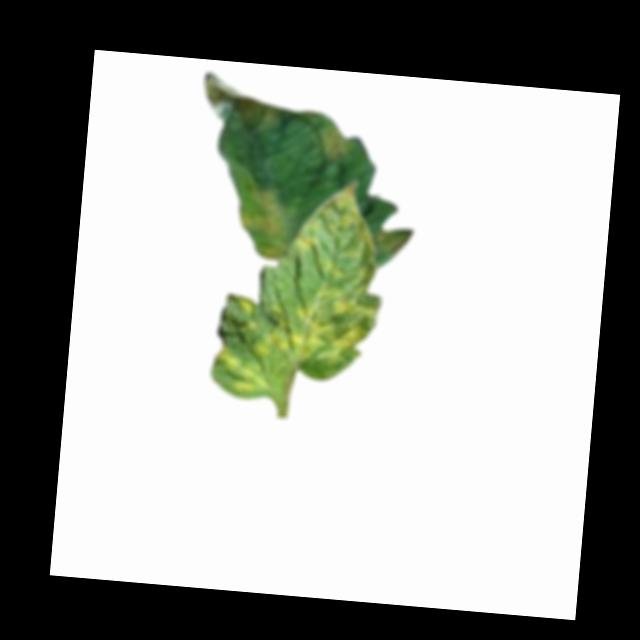Leaf_Mold: (207, 253, 385, 403), (218, 156, 297, 263), (198, 69, 289, 134), (307, 176, 368, 234), (309, 121, 354, 163), (367, 224, 415, 256), (292, 228, 321, 251)
